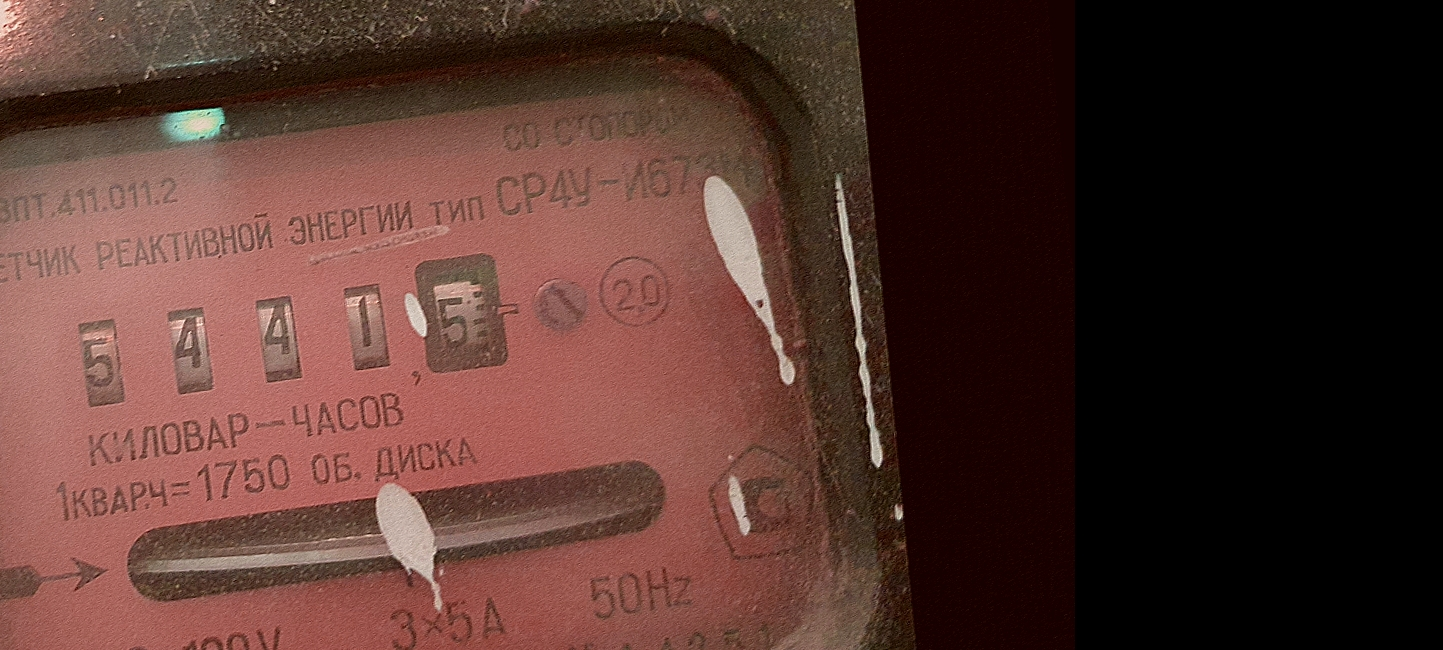1: (349, 291, 378, 351)
4: (254, 295, 297, 364), (167, 309, 208, 373)
5: (433, 288, 474, 354), (76, 331, 120, 391)
screen: (48, 226, 535, 436)
